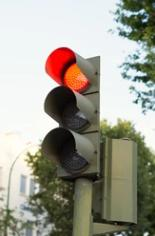red_light: (41, 47, 101, 183)
